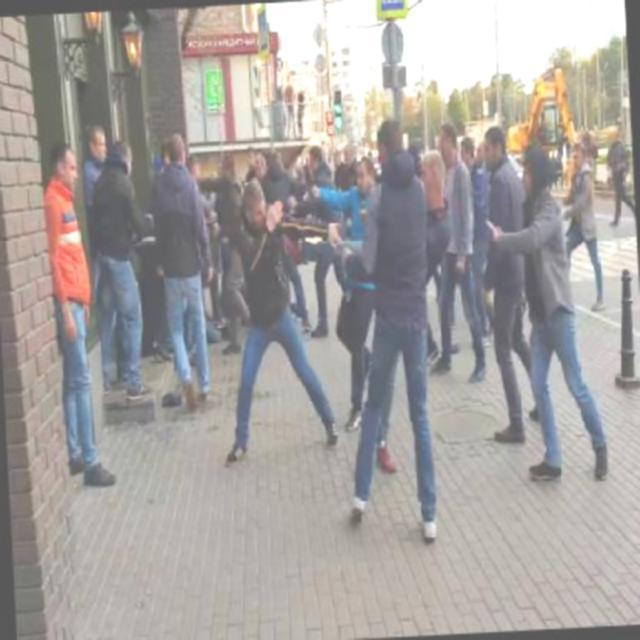fight: (218, 170, 392, 468)
non-fight: (49, 140, 111, 486)
